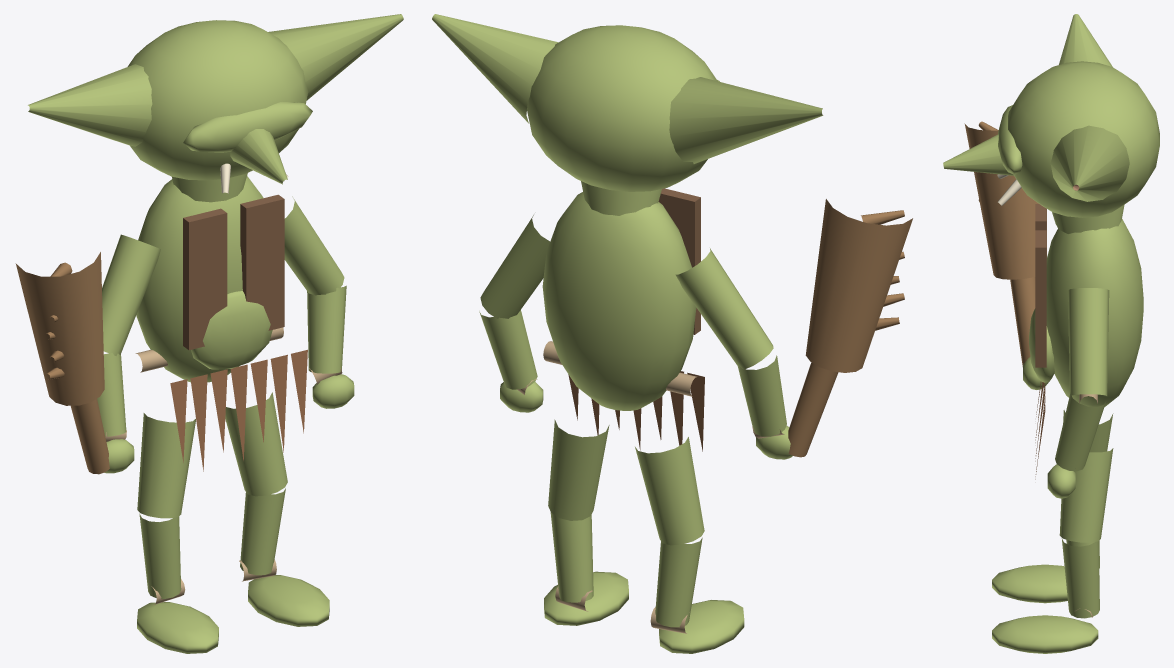
File: goblin-club-blockout.glb
3 views of the same model, side by side, from view 1: azimuth 30°, elevation 25°; view 2: azimuth 150°, elevation 25°; view 3: azimuth 270°, elevation 25° (orthographic). The views are drawn at different scales.
Parts seen in each view (by area): view 1: club-goblin-blockout; view 2: club-goblin-blockout; view 3: club-goblin-blockout.
Part boxes in pixels (x1,y1,x2,y2): club-goblin-blockout: (15, 14, 403, 653); club-goblin-blockout: (432, 14, 912, 653); club-goblin-blockout: (943, 14, 1159, 653).
Bounding box in the file's own units: 2.2 × 2.93 × 1.05.
